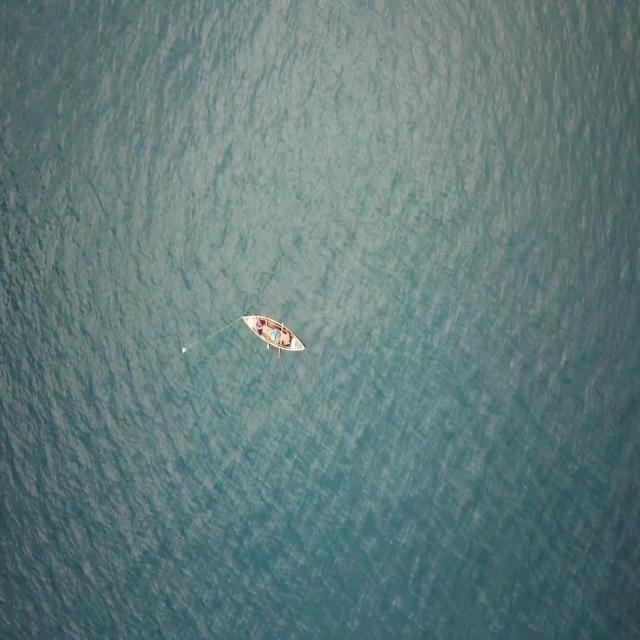ship: (238, 306, 308, 357)
